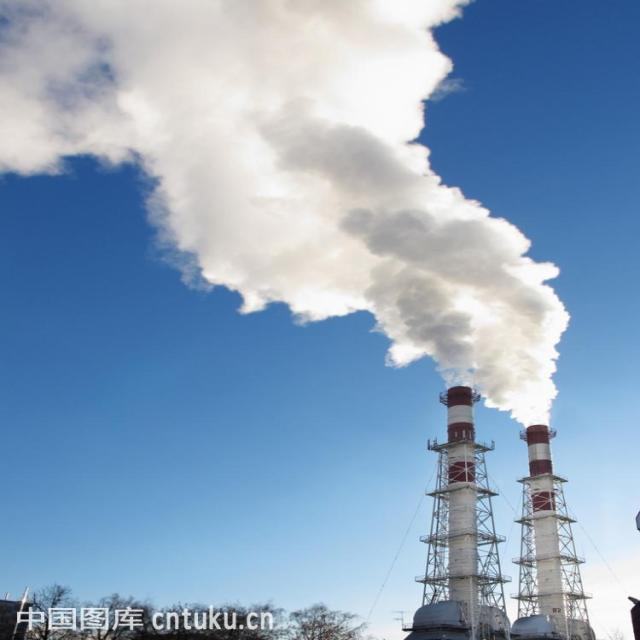Smoke: (0, 0, 570, 429)
